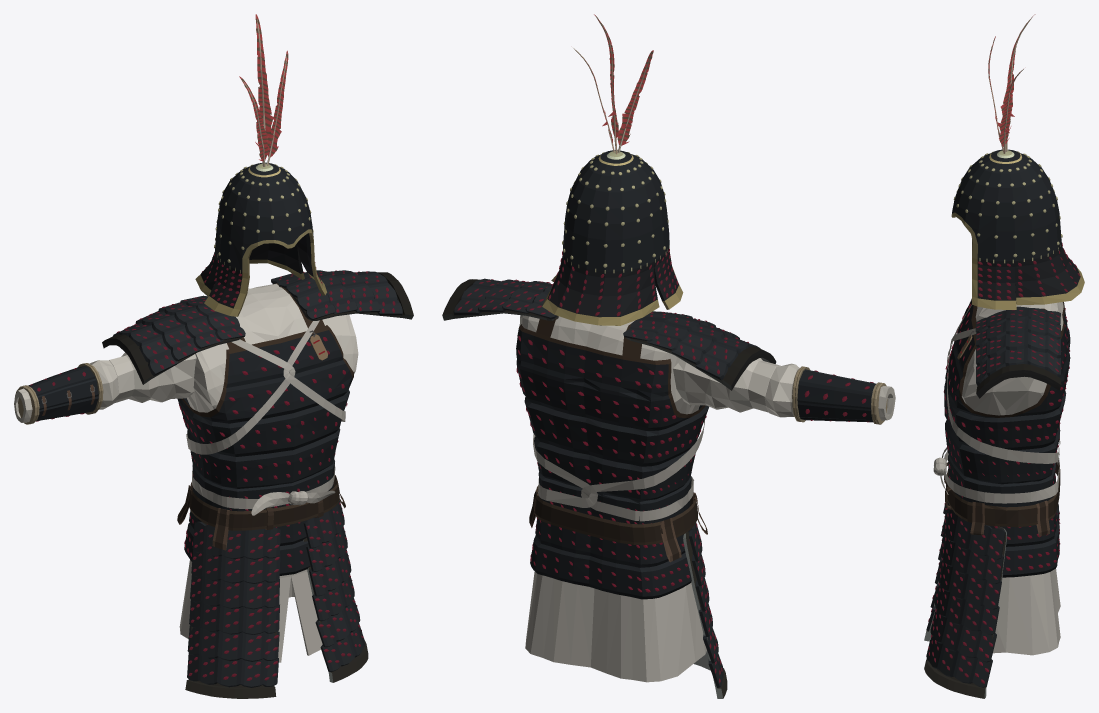
The model's file is tangDynastyWarrior.glb.
The picture shows the model from 3 angles, left to right: view 1: azimuth 30°, elevation 25°; view 2: azimuth 150°, elevation 25°; view 3: azimuth 270°, elevation 25°; orthographic projection. The views are drawn at different scales.
Visible parts, largest first — view 1: ttangDynastyWarriorBody, tangDynastyWarriorHelmet, ttangDynastyWarriorBody.001, tangDynastyWarriorLowerArm, tangDynastyWarriorUpperArm; view 2: ttangDynastyWarriorBody, tangDynastyWarriorHelmet, ttangDynastyWarriorBody.001, tangDynastyWarriorLowerArm, tangDynastyWarriorUpperArm; view 3: ttangDynastyWarriorBody, tangDynastyWarriorHelmet, ttangDynastyWarriorBody.001.
Boxes of the visible parts, bbox=[...] form: ttangDynastyWarriorBody: bbox=[177, 283, 368, 698]; tangDynastyWarriorHelmet: bbox=[195, 14, 326, 316]; ttangDynastyWarriorBody.001: bbox=[102, 270, 413, 384]; tangDynastyWarriorLowerArm: bbox=[14, 360, 119, 424]; tangDynastyWarriorUpperArm: bbox=[109, 352, 196, 403]; ttangDynastyWarriorBody: bbox=[516, 315, 727, 698]; tangDynastyWarriorHelmet: bbox=[542, 14, 683, 325]; ttangDynastyWarriorBody.001: bbox=[442, 278, 776, 390]; tangDynastyWarriorLowerArm: bbox=[764, 363, 895, 424]; tangDynastyWarriorUpperArm: bbox=[672, 358, 780, 412]; ttangDynastyWarriorBody: bbox=[924, 298, 1070, 698]; tangDynastyWarriorHelmet: bbox=[951, 14, 1084, 309]; ttangDynastyWarriorBody.001: bbox=[975, 306, 1061, 398].
Bounding box in the file's own units: 1.31 × 2.06 × 0.4664.
